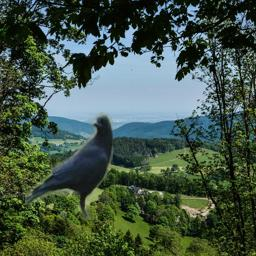Crow: (25, 112, 113, 220)
